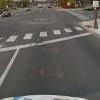Crosswalk: (4, 22, 99, 58)
